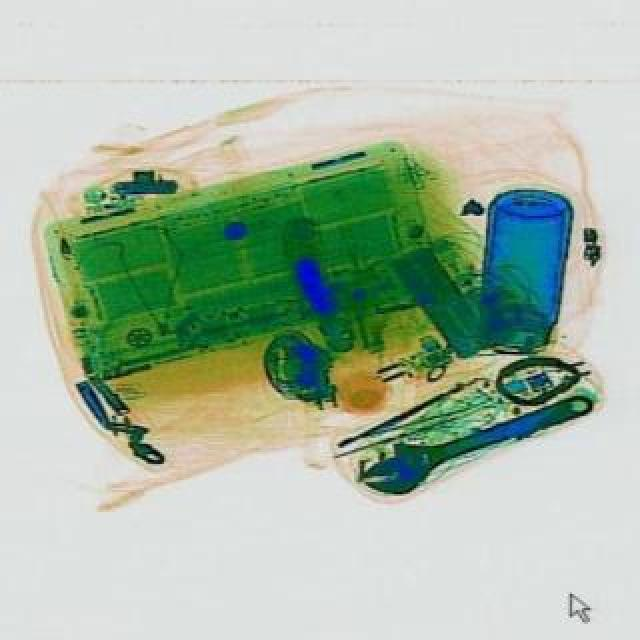scissors: (350, 372, 600, 504)
